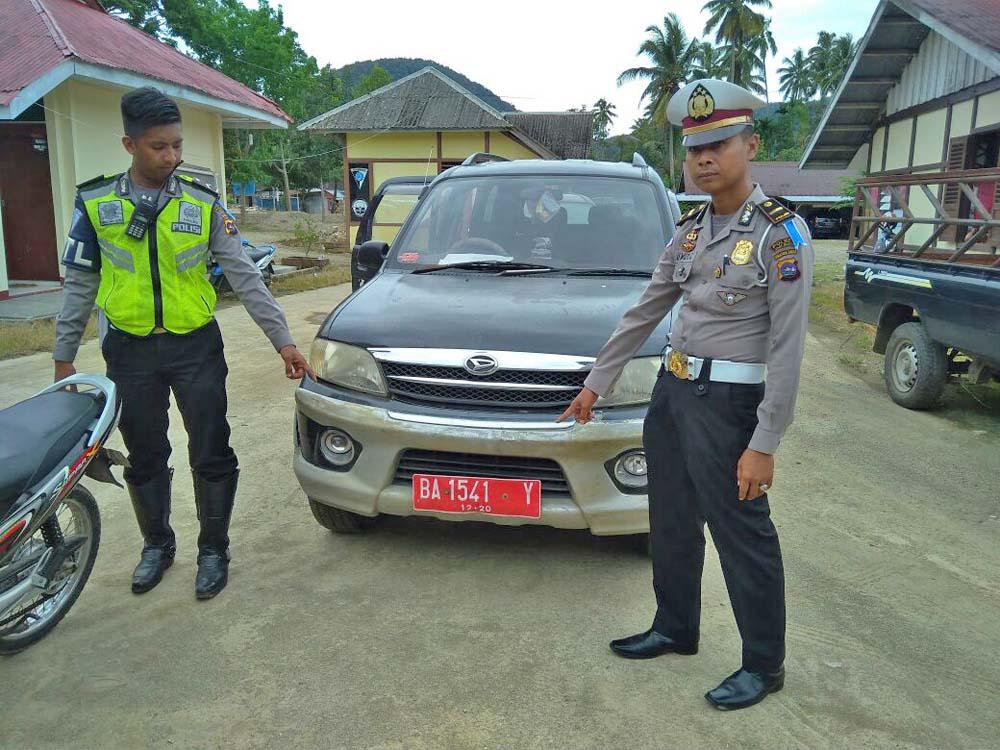plate: (412, 471, 540, 518)
